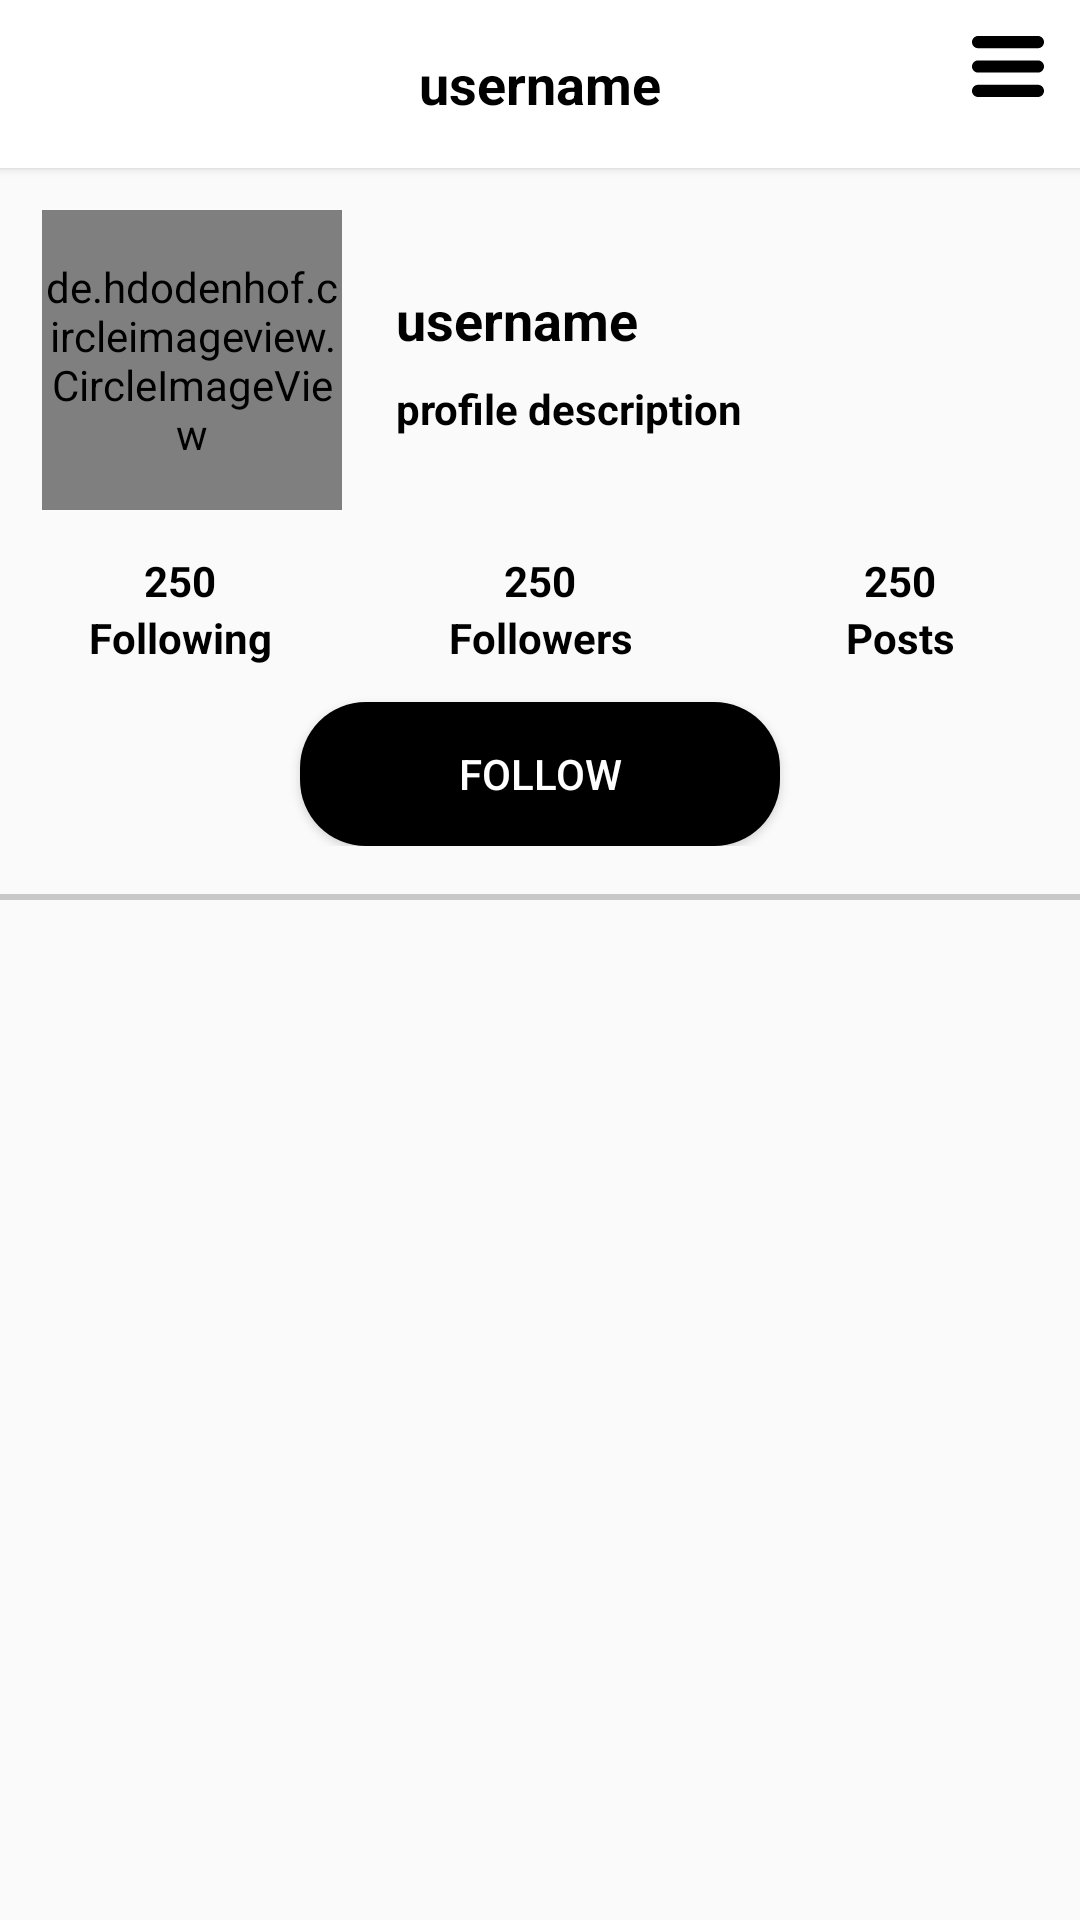

Where icons sit on this 1080×1920 app screen, as (x1, y1, x2, y2):
menu: (972, 36, 1044, 97)
